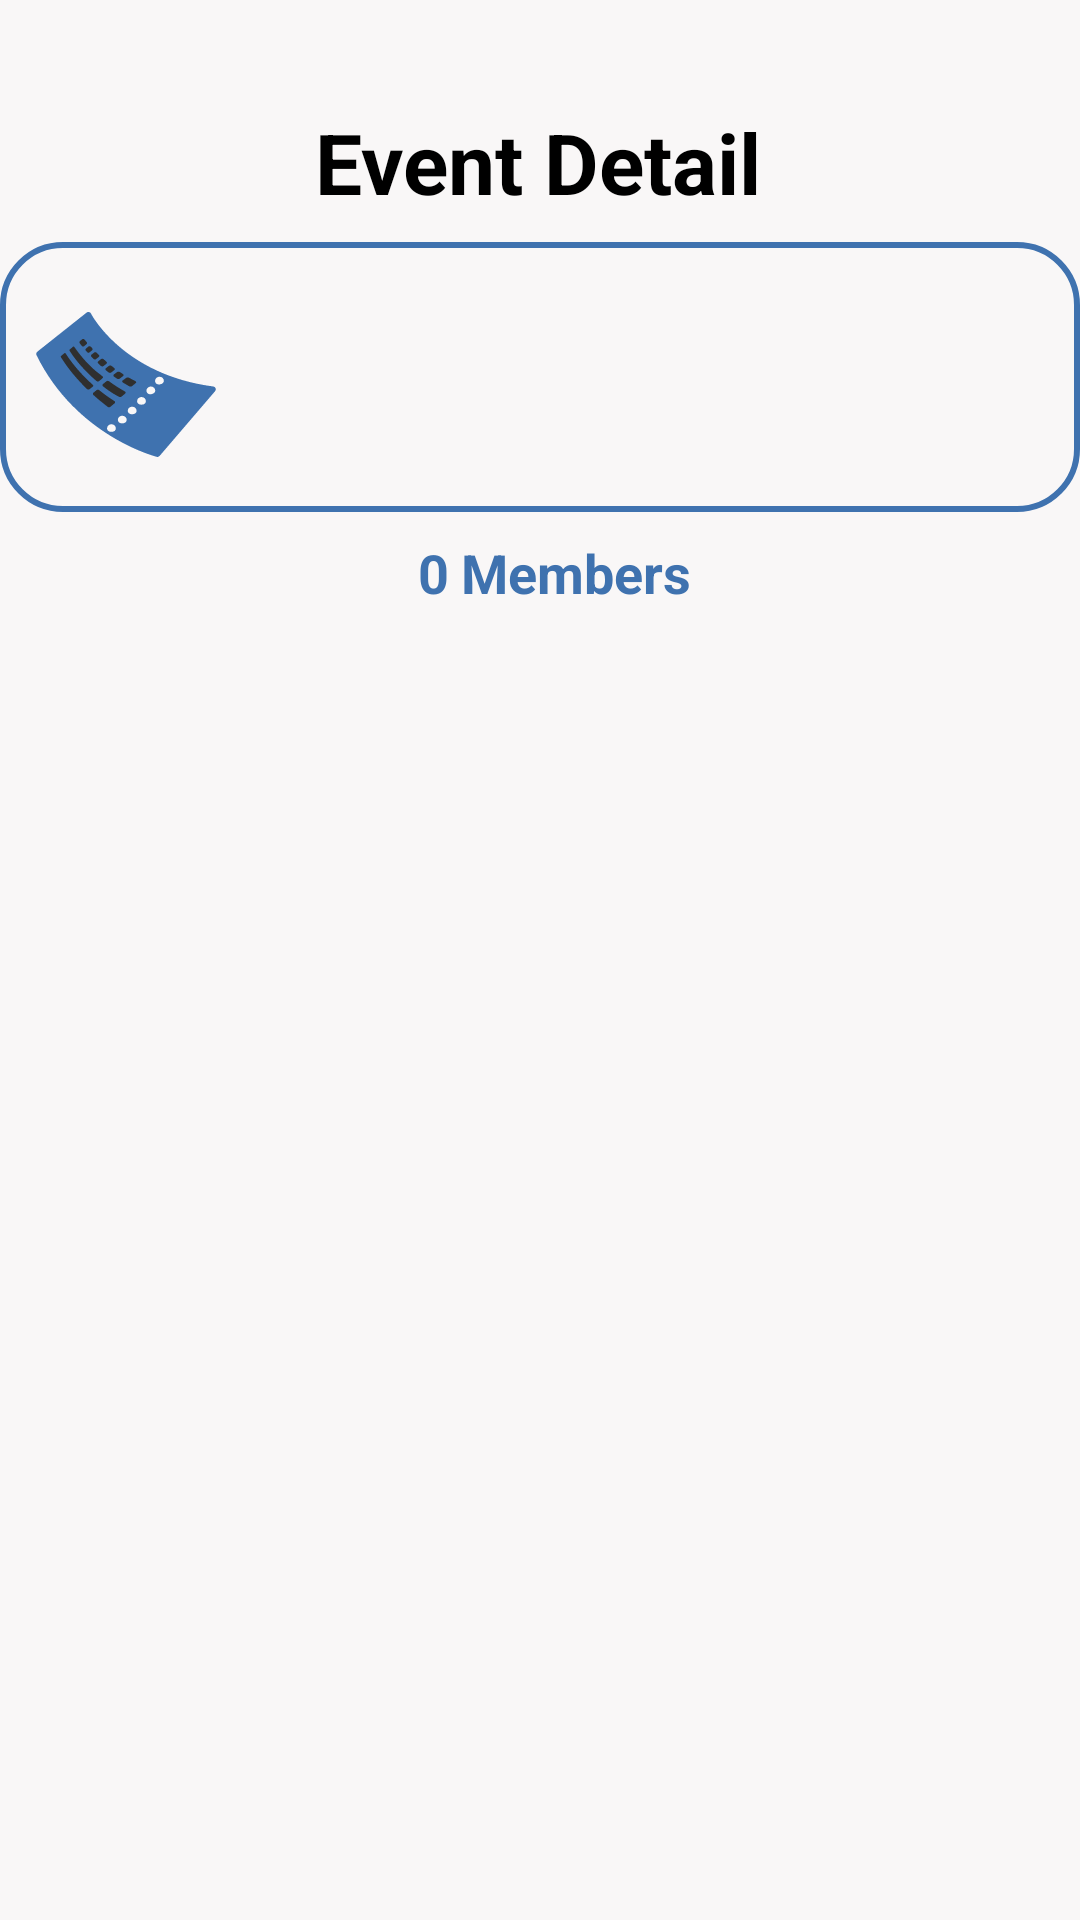

Screen size 1080*1920. Icon name, then its center in pixels as (x=x, y=y):
ticket: (x=126, y=384)
